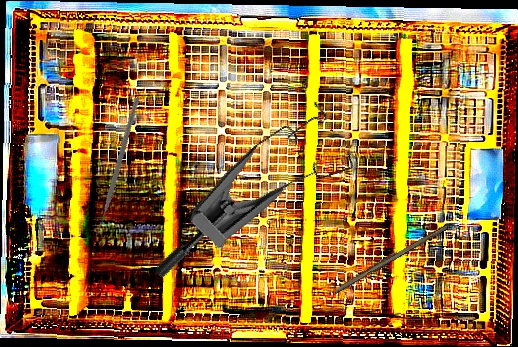Chopper: (58, 97, 170, 232)
Scalpel Handle: (332, 221, 449, 296)
Speculum: (150, 76, 373, 333)
